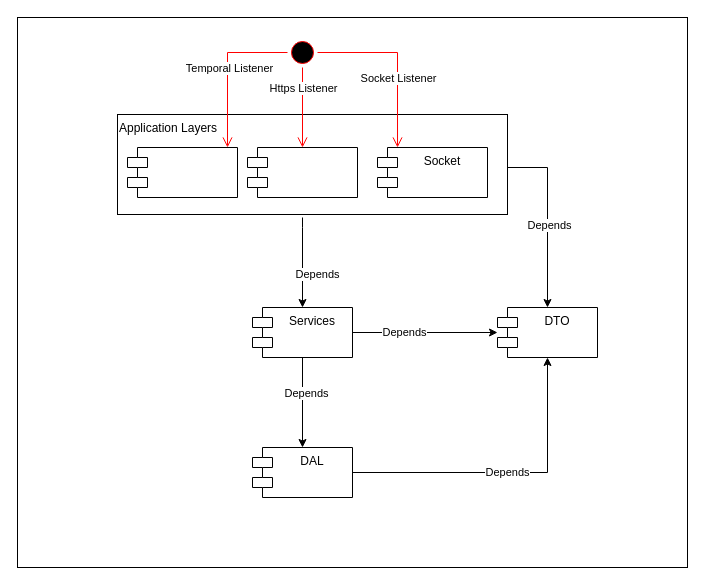
Image size: 705x585. Some labels were removed from this diagram. The centre of each missing label's shape, as x and y in pixels:
"Consumer" goes at point 182,172.
"Restful APIs" goes at point 302,172.
